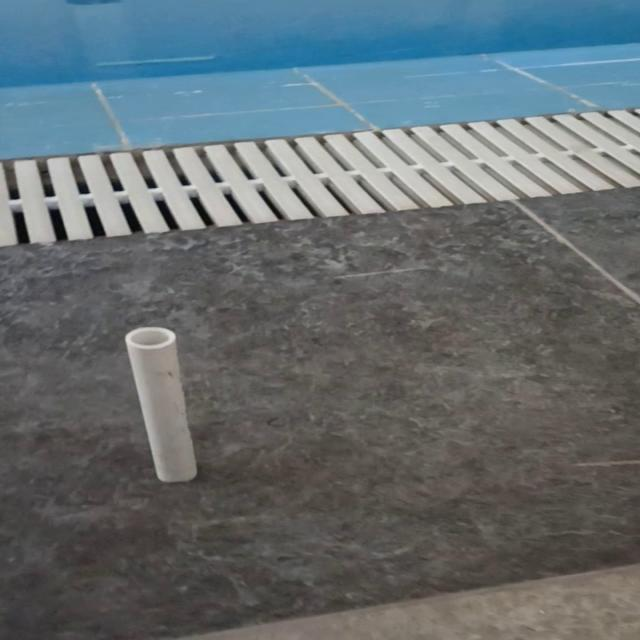Cube: (123, 325, 199, 483)
